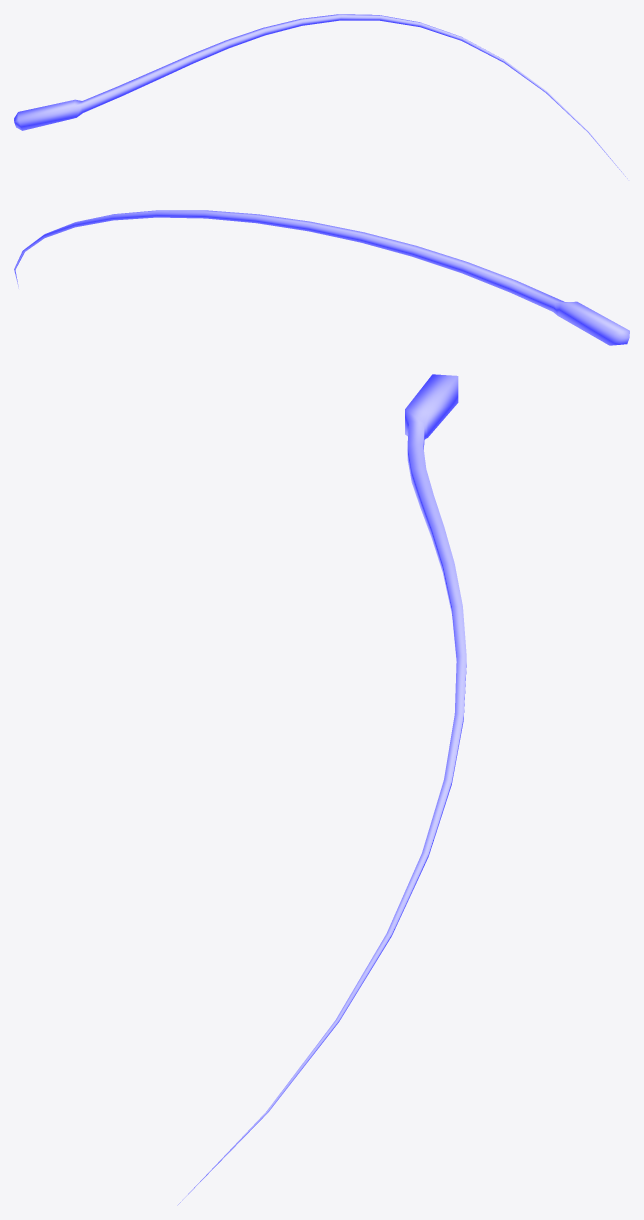
Rendered from flagelobase.fbx.
The picture shows the model from 3 angles, top to bottom: view 1: azimuth 30°, elevation 25°; view 2: azimuth 150°, elevation 25°; view 3: azimuth 270°, elevation 25°; orthographic projection. The views are drawn at different scales.
Parts seen in each view (by area): view 1: Flagellum_00.001, Flagellum_00.002, Flagellum_00.003, Flagellum_00.004, Flagellum_00.005; view 2: Flagellum_00.001, Flagellum_00.002, Flagellum_00.003, Flagellum_00.004; view 3: Flagellum_00.004, Flagellum_00.001, Flagellum_00.003, Flagellum_00.002, Flagellum_00.005.
Part boxes in pixels (x1,y1,x2,y2): Flagellum_00.001: [14, 86, 121, 130]; Flagellum_00.002: [117, 40, 229, 95]; Flagellum_00.003: [226, 14, 341, 48]; Flagellum_00.004: [339, 14, 504, 62]; Flagellum_00.005: [504, 60, 627, 178]; Flagellum_00.001: [510, 280, 629, 345]; Flagellum_00.002: [360, 232, 515, 292]; Flagellum_00.003: [204, 210, 363, 242]; Flagellum_00.004: [43, 210, 206, 237]; Flagellum_00.004: [386, 656, 466, 935]; Flagellum_00.001: [405, 374, 458, 449]; Flagellum_00.003: [431, 527, 466, 660]; Flagellum_00.002: [407, 444, 444, 537]; Flagellum_00.005: [177, 933, 391, 1205].
Bounding box in the file's own units: 571 × 175 × 130.
